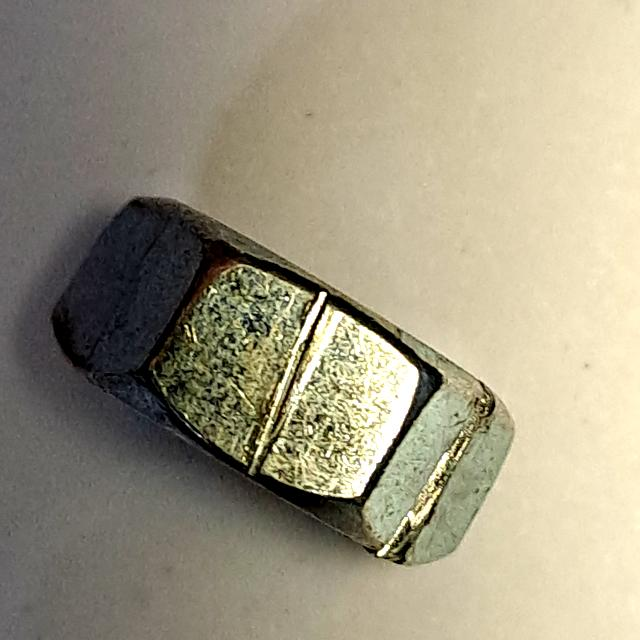Side_Scratches: (38, 188, 525, 582)
